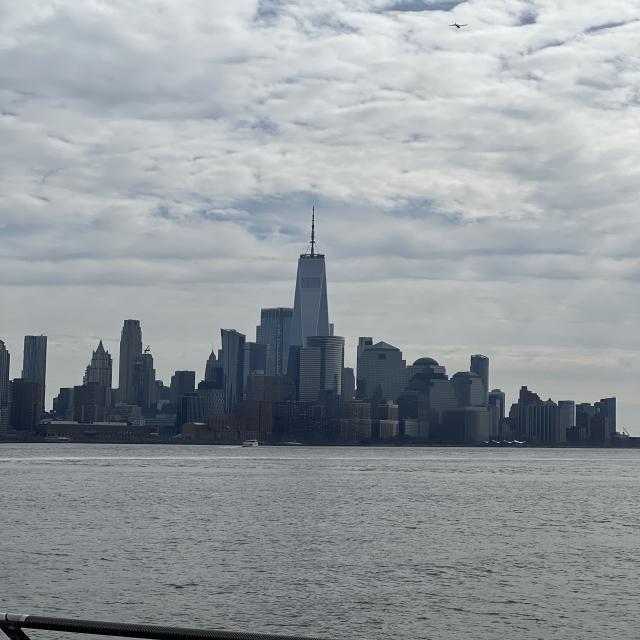WTC: (292, 207, 332, 323)
